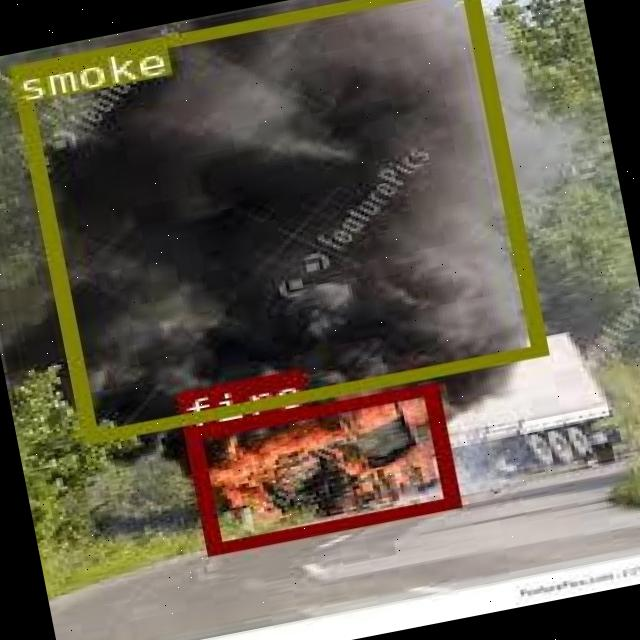fire: (182, 382, 456, 554)
smoke: (6, 0, 543, 442)
